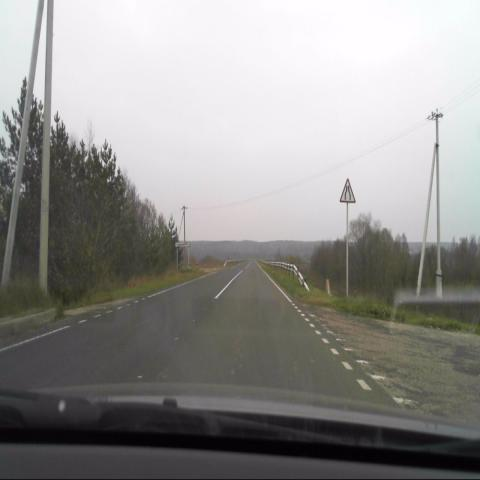1_20: (339, 178, 356, 204)
